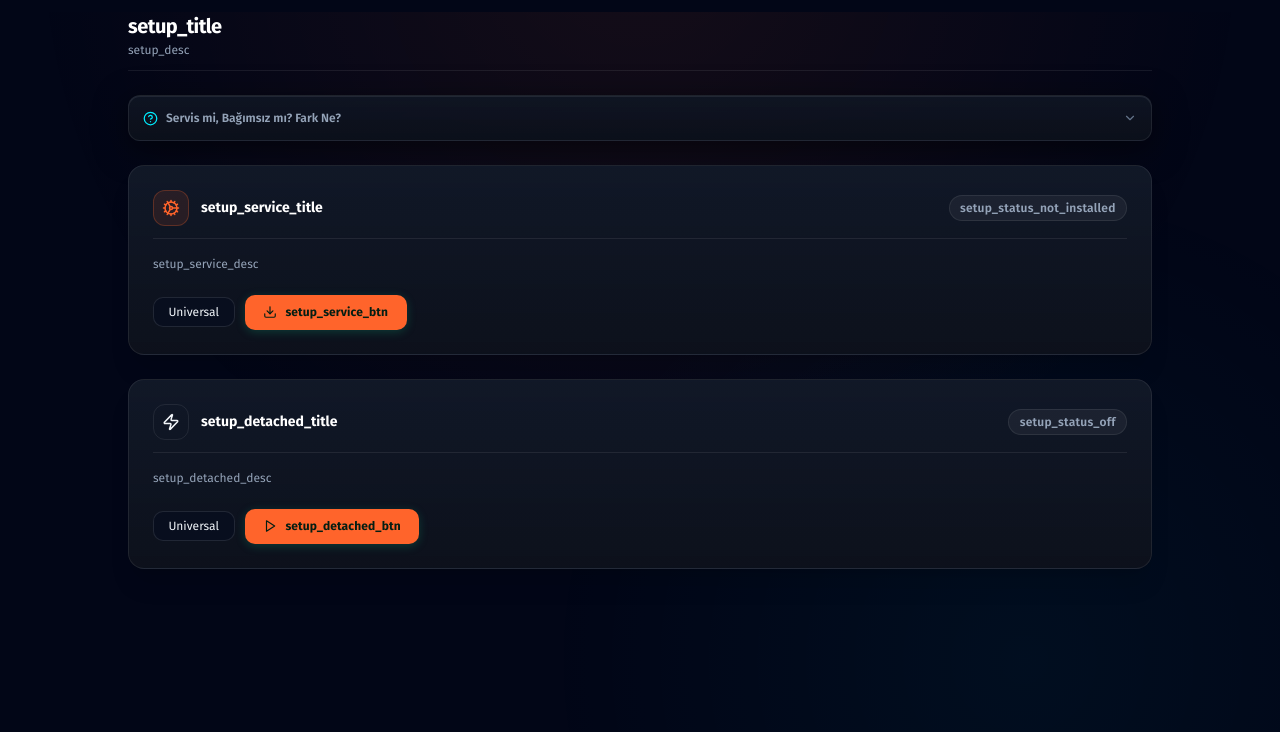
Test case: surfaces a detached startup failure without reporting success
This screenshot has width=1280, height=732.
Click the button "setup_detached_btn" at (332, 526), box [245,509,419,544]
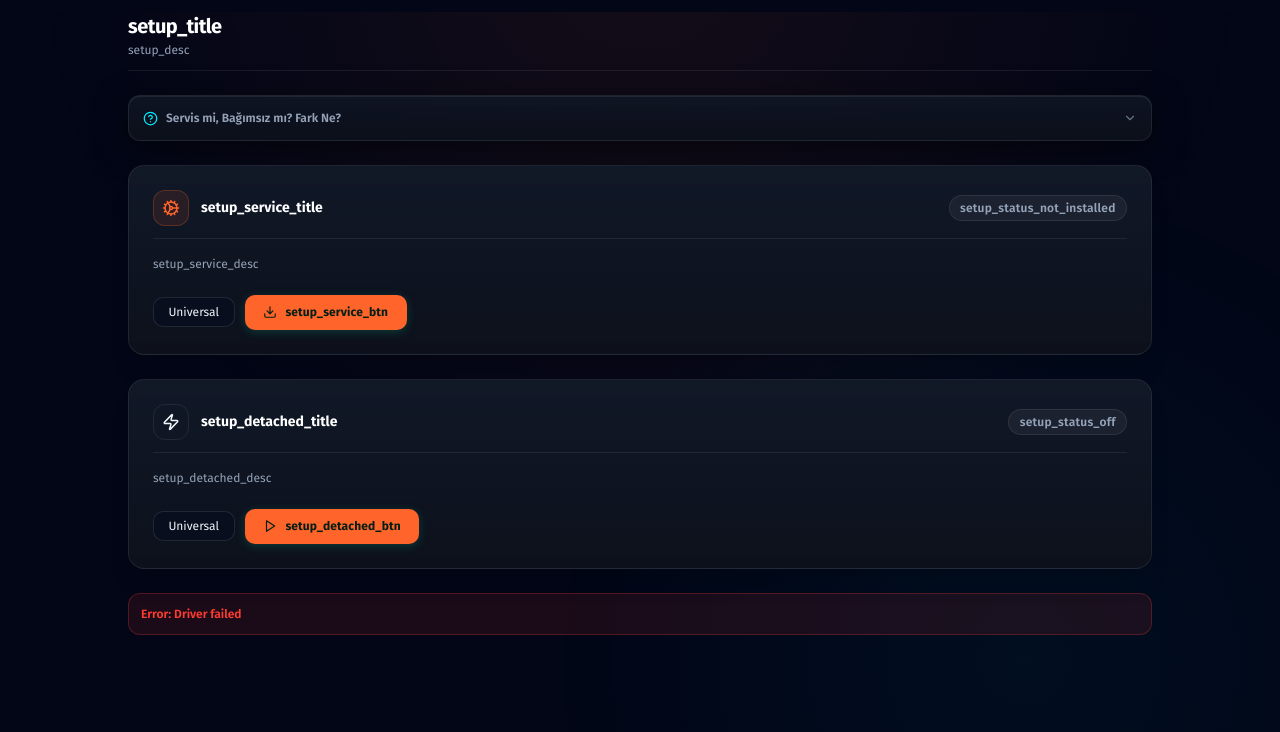
Check: the message shows "Driver failed", box [141,607,242,621]
